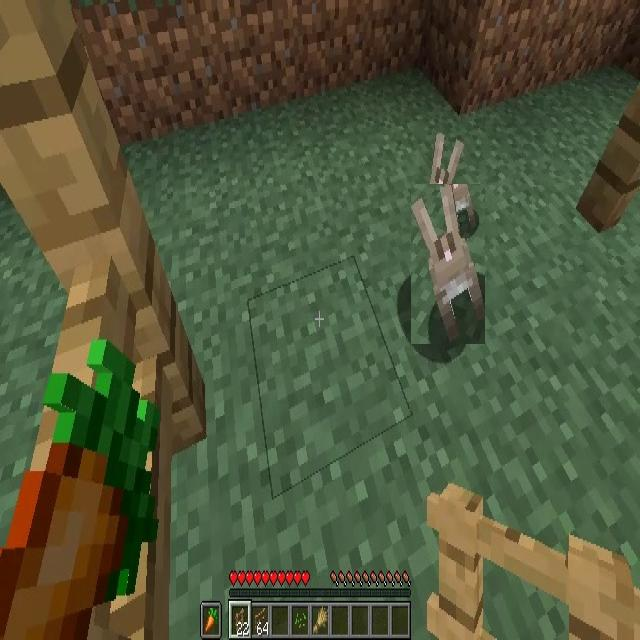duck: (411, 184, 485, 344), (421, 131, 463, 230)
